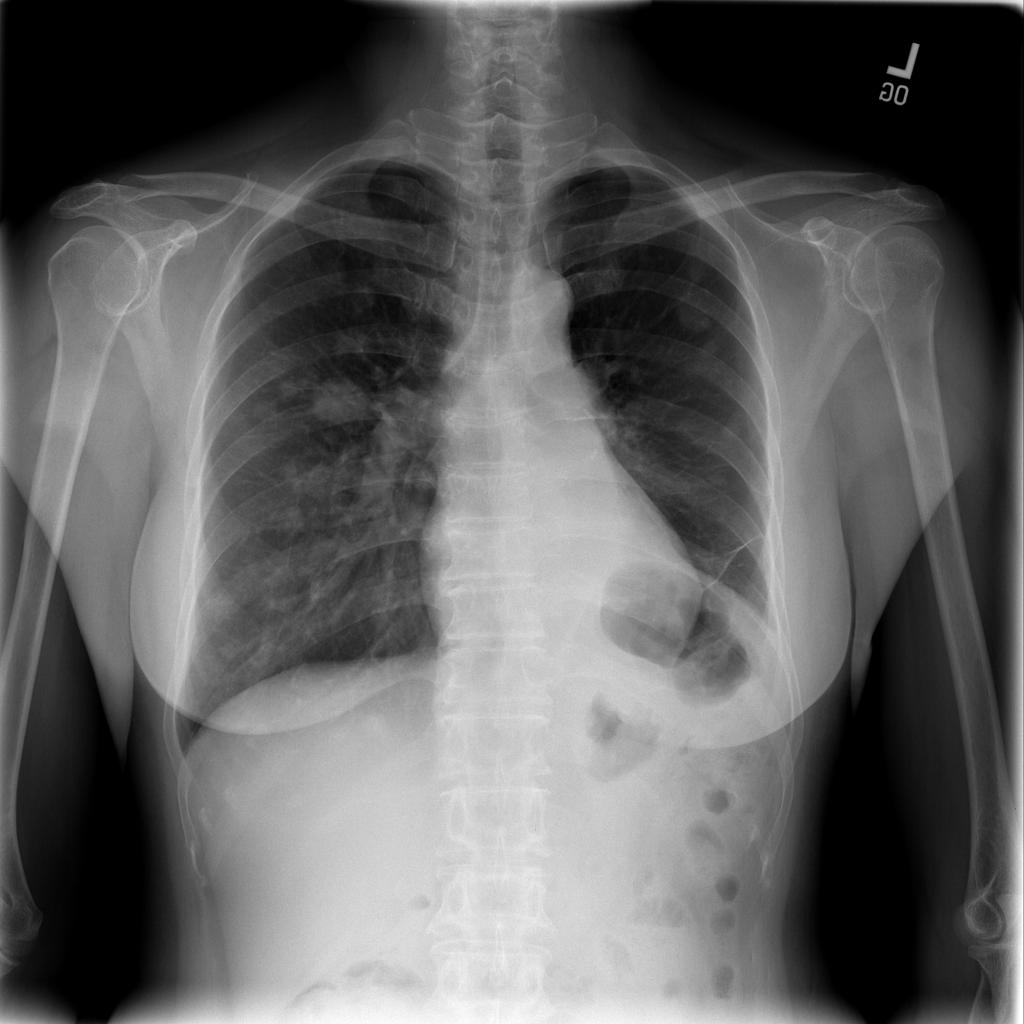nodule: (303, 364, 380, 436), (667, 280, 727, 335), (320, 319, 383, 364)
